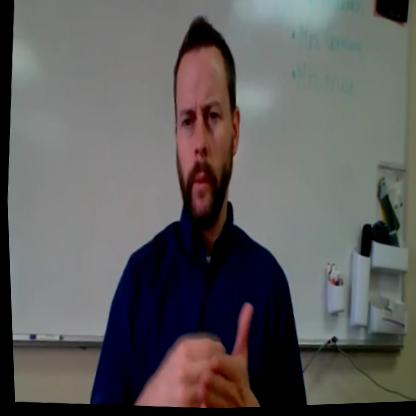Expensive: (141, 289, 257, 412)
